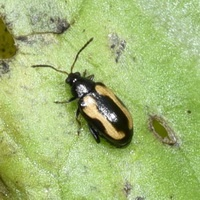insect: (32, 38, 132, 147)
